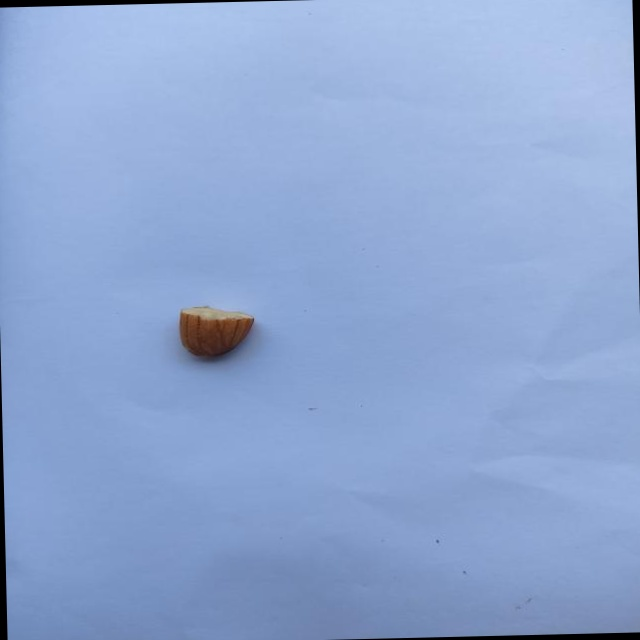grade4: (172, 301, 264, 365)
